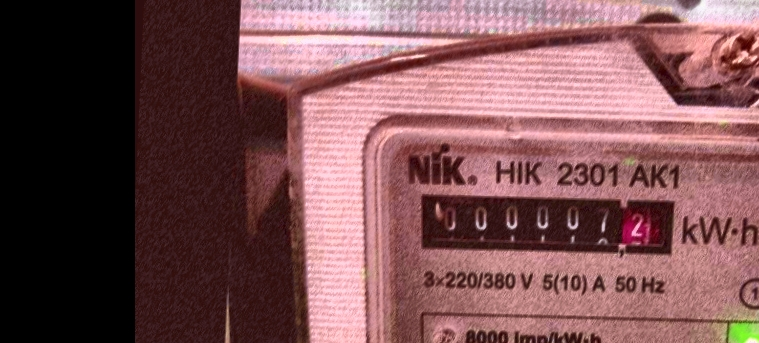0: (502, 202, 522, 230), (472, 203, 490, 232), (564, 202, 582, 231), (441, 204, 459, 231), (534, 202, 551, 230)
2: (629, 209, 646, 239)
7: (594, 205, 612, 234)
screen: (411, 180, 687, 265)
